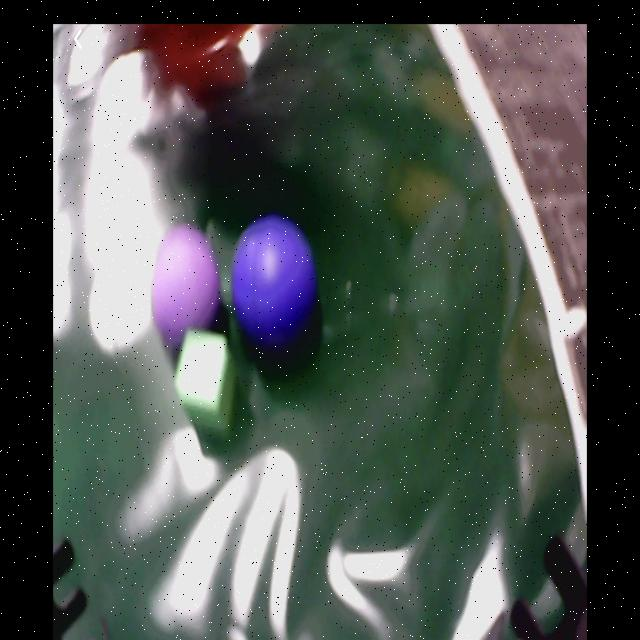ball: (234, 218, 315, 348), (152, 228, 219, 339)
